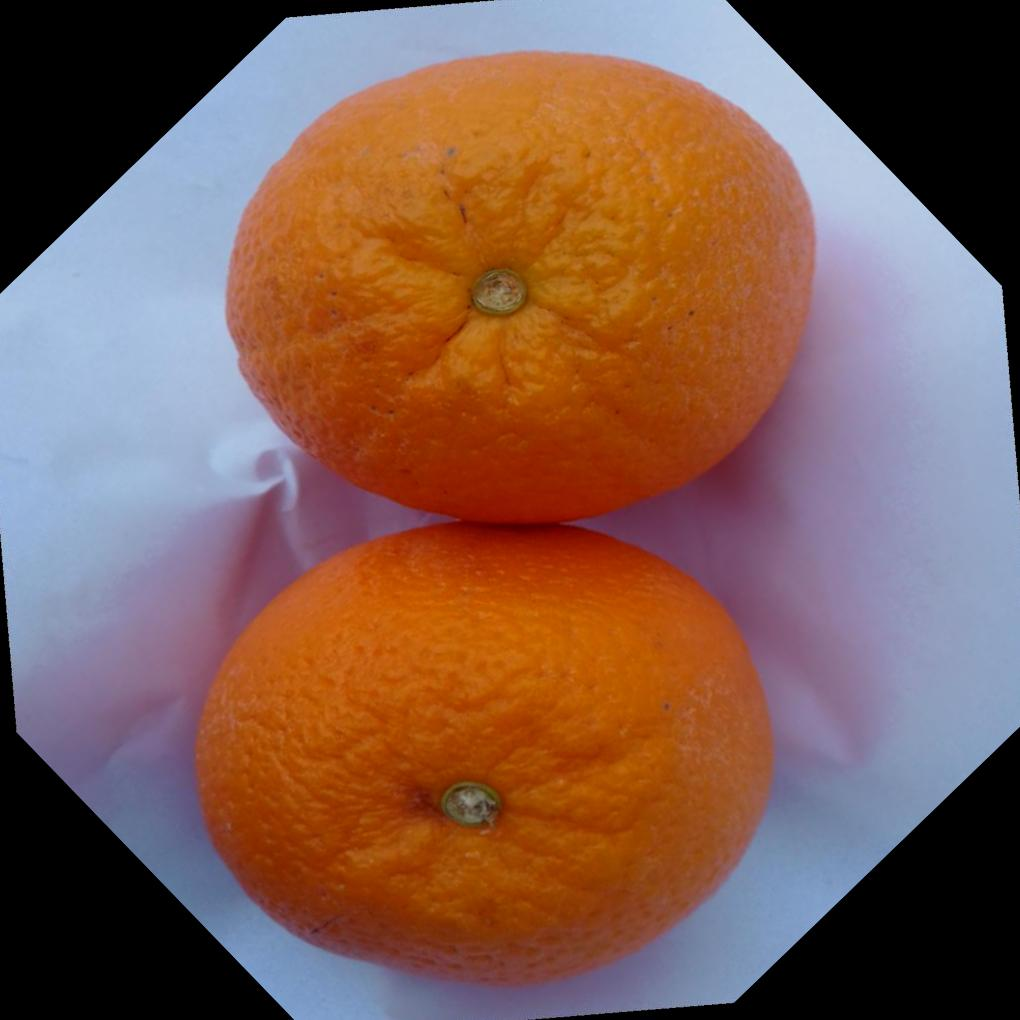FreshGuava: (188, 50, 817, 992)
